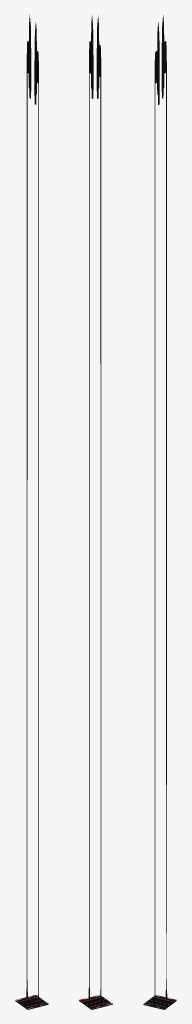
3 renders of one model, left to right at view 1: azimuth 30°, elevation 25°; view 2: azimuth 210°, elevation 25°; view 3: azimuth 330°, elevation 25°, orthographic.
Visible parts, largest first — view 1: rightLight_rightLight_rightLight_rightLight_rightLight_rightLigh, leftLight_leftLight_leftLight_leftLight_leftLight_leftLight_left, road_road_road_road_road_road_road_road; view 2: rightLight_rightLight_rightLight_rightLight_rightLight_rightLigh, leftLight_leftLight_leftLight_leftLight_leftLight_leftLight_left, road_road_road_road_road_road_road_road; view 3: leftLight_leftLight_leftLight_leftLight_leftLight_leftLight_left, rightLight_rightLight_rightLight_rightLight_rightLight_rightLigh, road_road_road_road_road_road_road_road.
Boxes of the visible parts, left/top/right/bottom form: rightLight_rightLight_rightLight_rightLight_rightLight_rightLigh: left=26, top=14, right=31, bottom=993; leftLight_leftLight_leftLight_leftLight_leftLight_leftLight_left: left=34, top=22, right=39, bottom=1001; road_road_road_road_road_road_road_road: left=15, top=995, right=48, bottom=1009; rightLight_rightLight_rightLight_rightLight_rightLight_rightLigh: left=96, top=15, right=101, bottom=1001; leftLight_leftLight_leftLight_leftLight_leftLight_leftLight_left: left=88, top=15, right=93, bottom=993; road_road_road_road_road_road_road_road: left=79, top=995, right=112, bottom=1009; leftLight_leftLight_leftLight_leftLight_leftLight_leftLight_left: left=154, top=22, right=159, bottom=1001; rightLight_rightLight_rightLight_rightLight_rightLight_rightLigh: left=161, top=15, right=166, bottom=993; road_road_road_road_road_road_road_road: left=143, top=995, right=176, bottom=1009.
Size of the model in its own units: 2.02 by 88.72 by 2.05.
Materials: 6 (1 with a texture image).
